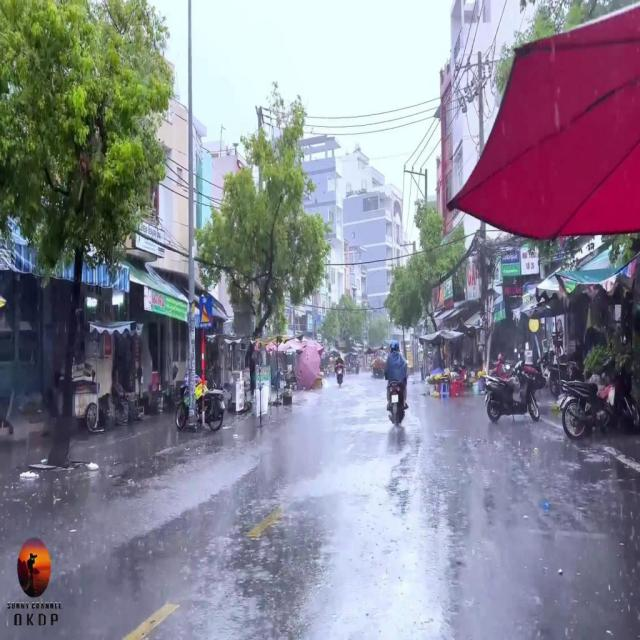khac: (200, 296, 212, 328)
